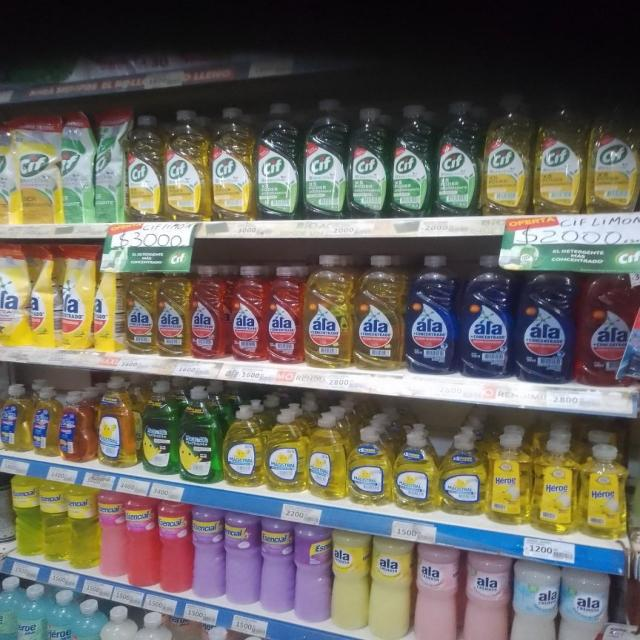ala_conc_amarillo: (354, 253, 404, 371), (304, 254, 352, 368), (157, 266, 190, 357), (124, 267, 156, 355)
ala_conc_azul: (515, 258, 575, 384), (459, 252, 513, 380), (406, 253, 456, 374)
ala_conc_rojo: (576, 266, 628, 387), (229, 264, 266, 364), (267, 263, 303, 365), (190, 264, 228, 360), (628, 265, 640, 389)
ala_crem_amarillo: (369, 536, 412, 640), (331, 529, 368, 632)
ala_crem_blanco: (511, 560, 558, 640), (559, 568, 610, 640)
ala_crem_rosado: (414, 542, 460, 640), (462, 551, 509, 640)
ala_sachet_amarillo: (0, 242, 28, 346)
cif_conc_bot_amarilla: (534, 99, 585, 214), (484, 94, 532, 215), (588, 104, 640, 213), (210, 106, 253, 222), (165, 109, 209, 222), (126, 113, 164, 222)
cif_conc_botella_verde: (435, 100, 481, 217), (256, 102, 300, 221), (303, 99, 346, 220), (390, 103, 432, 219), (348, 106, 388, 220)
cif_conc_sachet_amarillo: (17, 115, 59, 225), (0, 122, 17, 226)
esencial: (258, 516, 295, 616), (294, 522, 330, 624), (223, 509, 260, 606), (191, 504, 225, 600), (158, 500, 192, 594), (125, 494, 158, 588), (67, 484, 99, 572), (98, 489, 126, 582), (12, 474, 41, 558), (40, 479, 68, 564)
heroe: (534, 433, 578, 535), (581, 443, 627, 538), (488, 430, 532, 526), (16, 584, 45, 640), (132, 611, 172, 640), (630, 441, 640, 545)
magistral_con_amarillo: (440, 431, 486, 517), (393, 429, 438, 513), (97, 378, 138, 468), (348, 426, 391, 506), (265, 409, 305, 493), (223, 404, 263, 488), (308, 412, 346, 500)
zorro: (60, 389, 94, 463), (0, 383, 30, 452), (32, 387, 58, 457)
